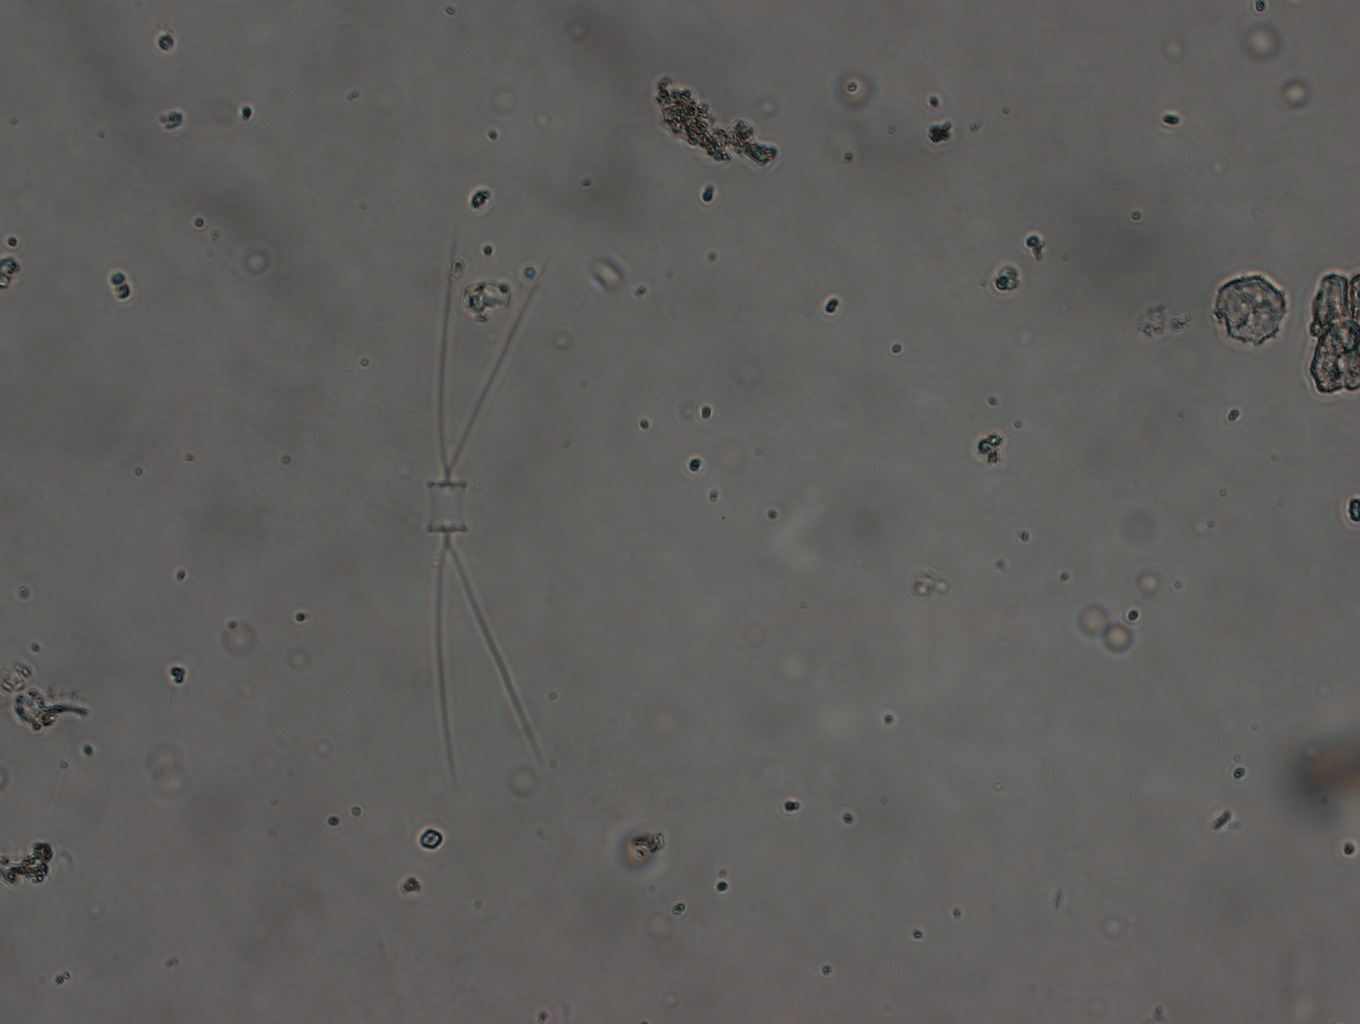chaetoceros: (427, 234, 549, 780)
